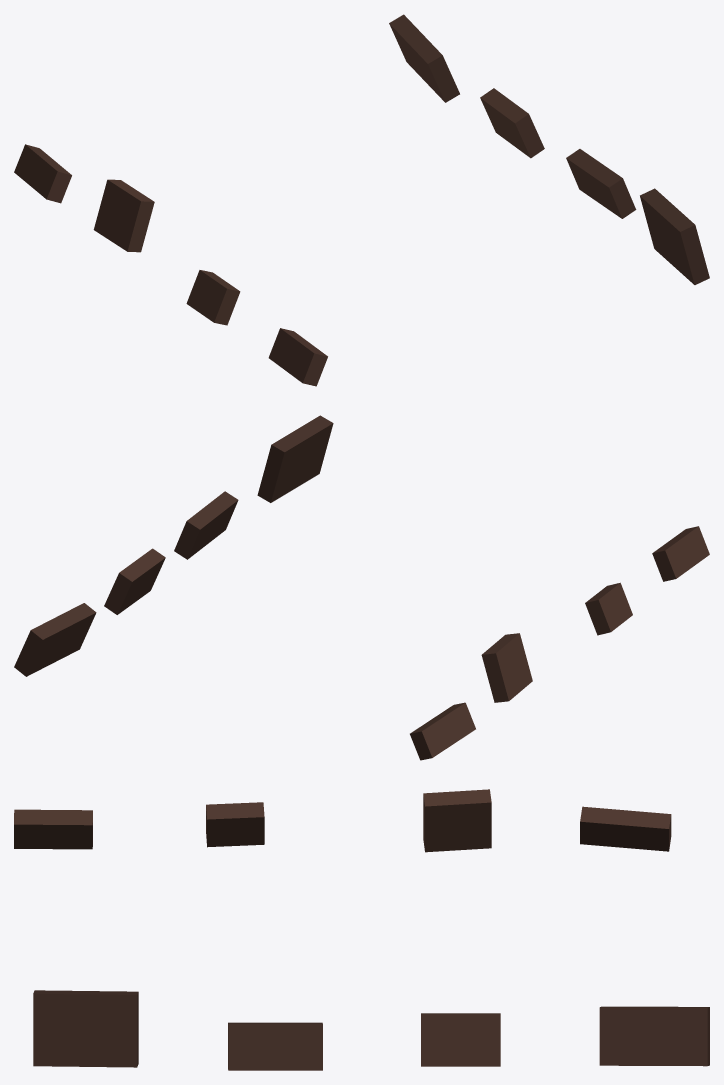
Rendered from lava_wash_detail1.glb.
The picture shows the model from 3 angles, top to bottom: view 1: azimuth 30°, elevation 25°; view 2: azimuth 150°, elevation 25°; view 3: azimuth 270°, elevation 25°; orthographic projection. The views are drawn at different scales.
Parts seen in each view (by area): view 1: lava_wash_detail1; view 2: lava_wash_detail1; view 3: lava_wash_detail1.
Part boxes in pixels (box(x1,y1,x2,y2)): lava_wash_detail1: box(14, 14, 709, 386); lava_wash_detail1: box(14, 415, 709, 760); lava_wash_detail1: box(14, 789, 709, 1070).
Bounding box in the file's own units: 34.44 × 4.88 × 42.21.
